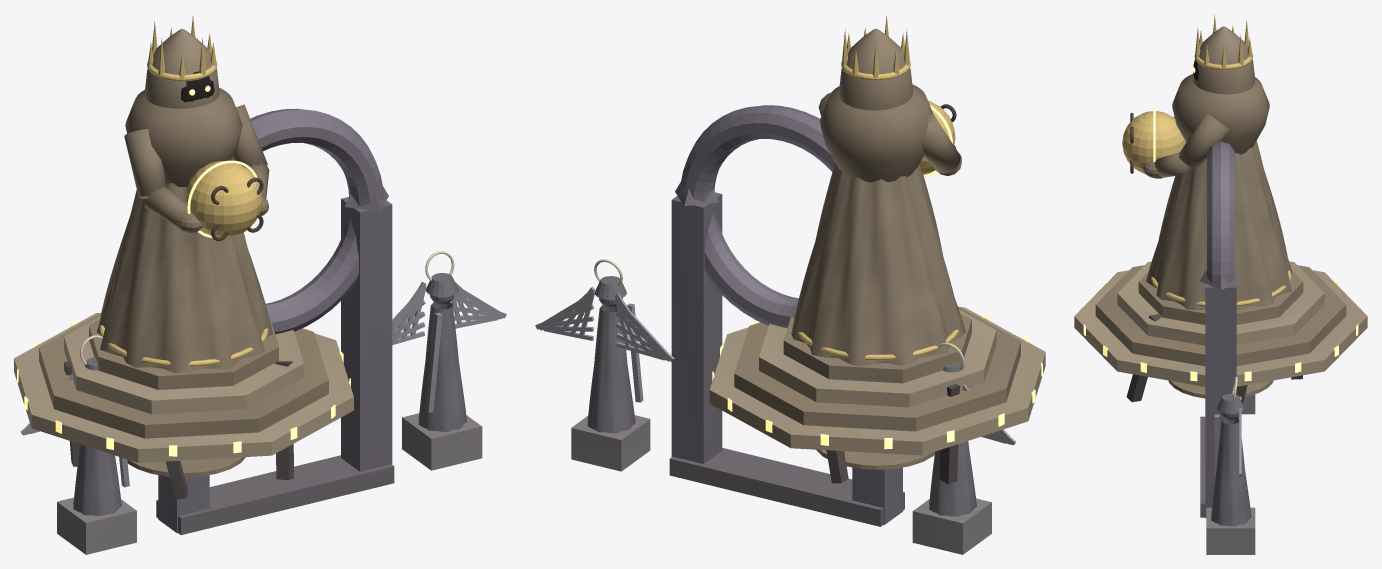
File: DesertoKit.glb
3 views of the same model, side by side, from view 1: azimuth 30°, elevation 25°; view 2: azimuth 150°, elevation 25°; view 3: azimuth 270°, elevation 25° (orthographic). The views are drawn at different scales.
Parts seen in each view (by area): view 1: Estatua, PortalAnjos, PortalMisterioso; view 2: Estatua, PortalAnjos, PortalMisterioso; view 3: Estatua, PortalAnjos, PortalMisterioso.
Part boxes in pixels (left/top/right/bottom): Estatua: left=14, top=15, right=353, bottom=462; PortalAnjos: left=20, top=108, right=506, bottom=554; PortalMisterioso: left=64, top=361, right=293, bottom=499; Estatua: left=709, top=15, right=1045, bottom=455; PortalAnjos: left=535, top=105, right=1016, bottom=554; PortalMisterioso: left=816, top=383, right=959, bottom=484; Estatua: left=1074, top=15, right=1367, bottom=386; PortalAnjos: left=1200, top=141, right=1255, bottom=554; PortalMisterioso: left=1126, top=314, right=1302, bottom=403.
Size of the model in its own units: 47.88 by 46.55 by 30.
